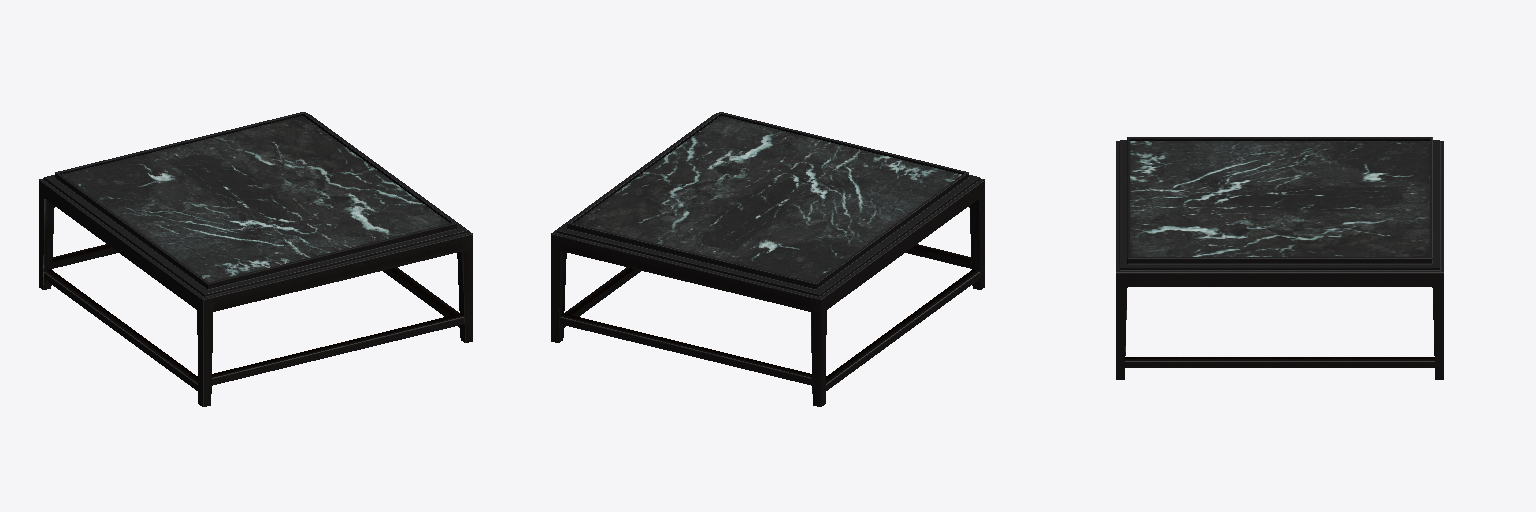
3 renders of one model, left to right at view 1: azimuth 30°, elevation 25°; view 2: azimuth 150°, elevation 25°; view 3: azimuth 270°, elevation 25°, orthographic.
Parts seen in each view (by area): view 1: solid_001, solid_002; view 2: solid_001, solid_002; view 3: solid_001, solid_002.
Part boxes in pixels (x1,y1,x2,y2): solid_001: (62, 116, 449, 281); solid_002: (39, 112, 472, 406); solid_001: (574, 116, 961, 281); solid_002: (551, 112, 984, 406); solid_001: (1130, 141, 1429, 256); solid_002: (1116, 137, 1443, 379).
Size of the model in its own units: 1.9 by 0.7831 by 2.
1 materials, 1 textured.